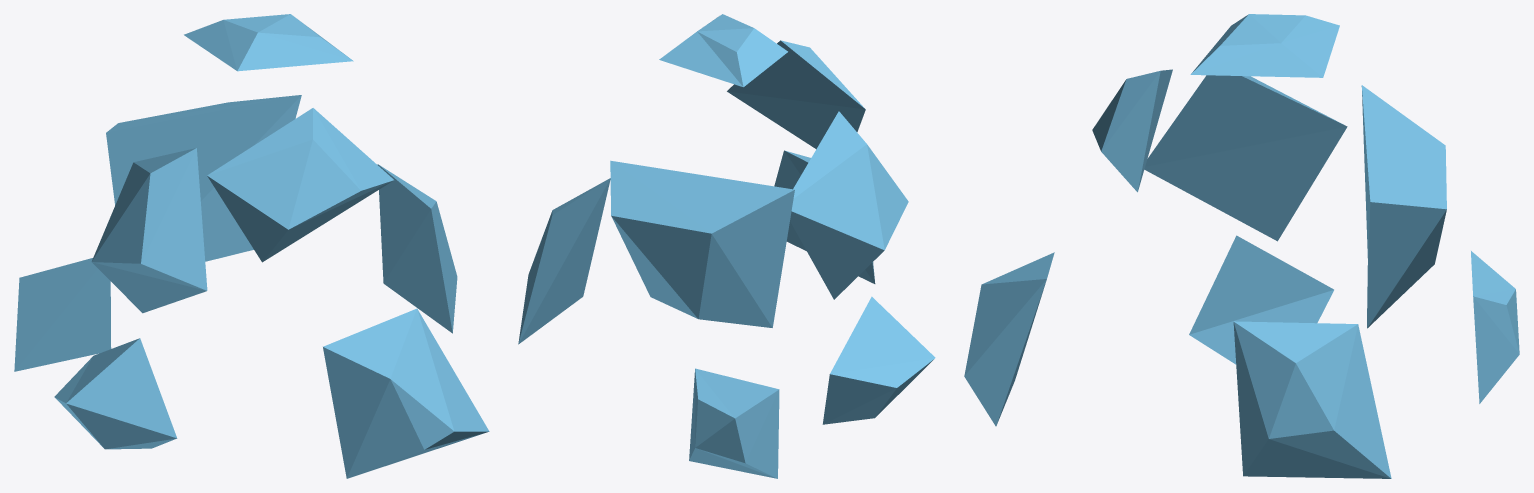
File: DiamondOreB.fbx
3 renders of one model, left to right at view 1: azimuth 30°, elevation 25°; view 2: azimuth 150°, elevation 25°; view 3: azimuth 270°, elevation 25°, orthographic. The views are drawn at different scales.
Parts seen in each view (by area): view 1: DiamondOreB; view 2: DiamondOreB; view 3: DiamondOreB.
Boxes of the visible parts, box(x1,y1,x2,y2) form: DiamondOreB: box(14, 14, 489, 478); DiamondOreB: box(518, 14, 935, 478); DiamondOreB: box(964, 14, 1519, 478).
Size of the model in its own units: 41.7 by 39.81 by 47.02.
